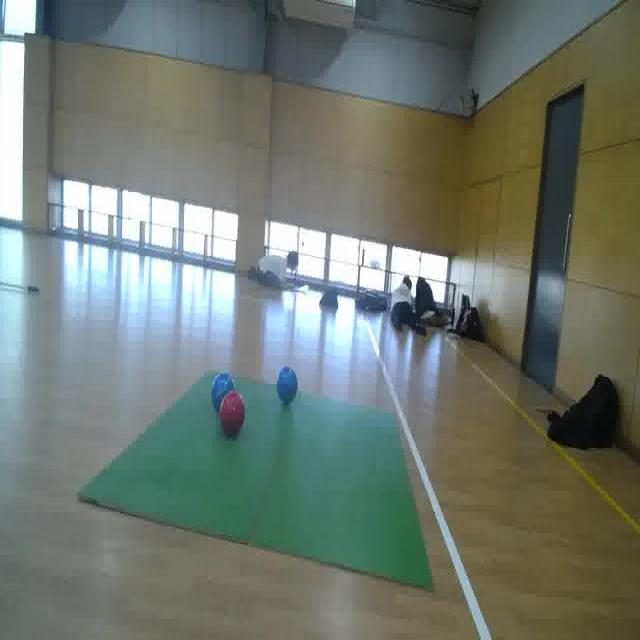blue_ball: (210, 367, 237, 412), (276, 364, 300, 404)
red_ball: (218, 388, 246, 441)
